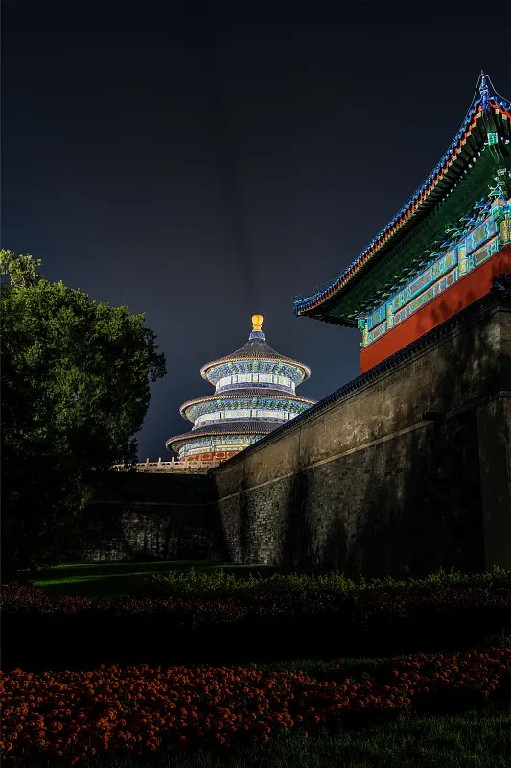Heaven: (164, 313, 323, 464)
